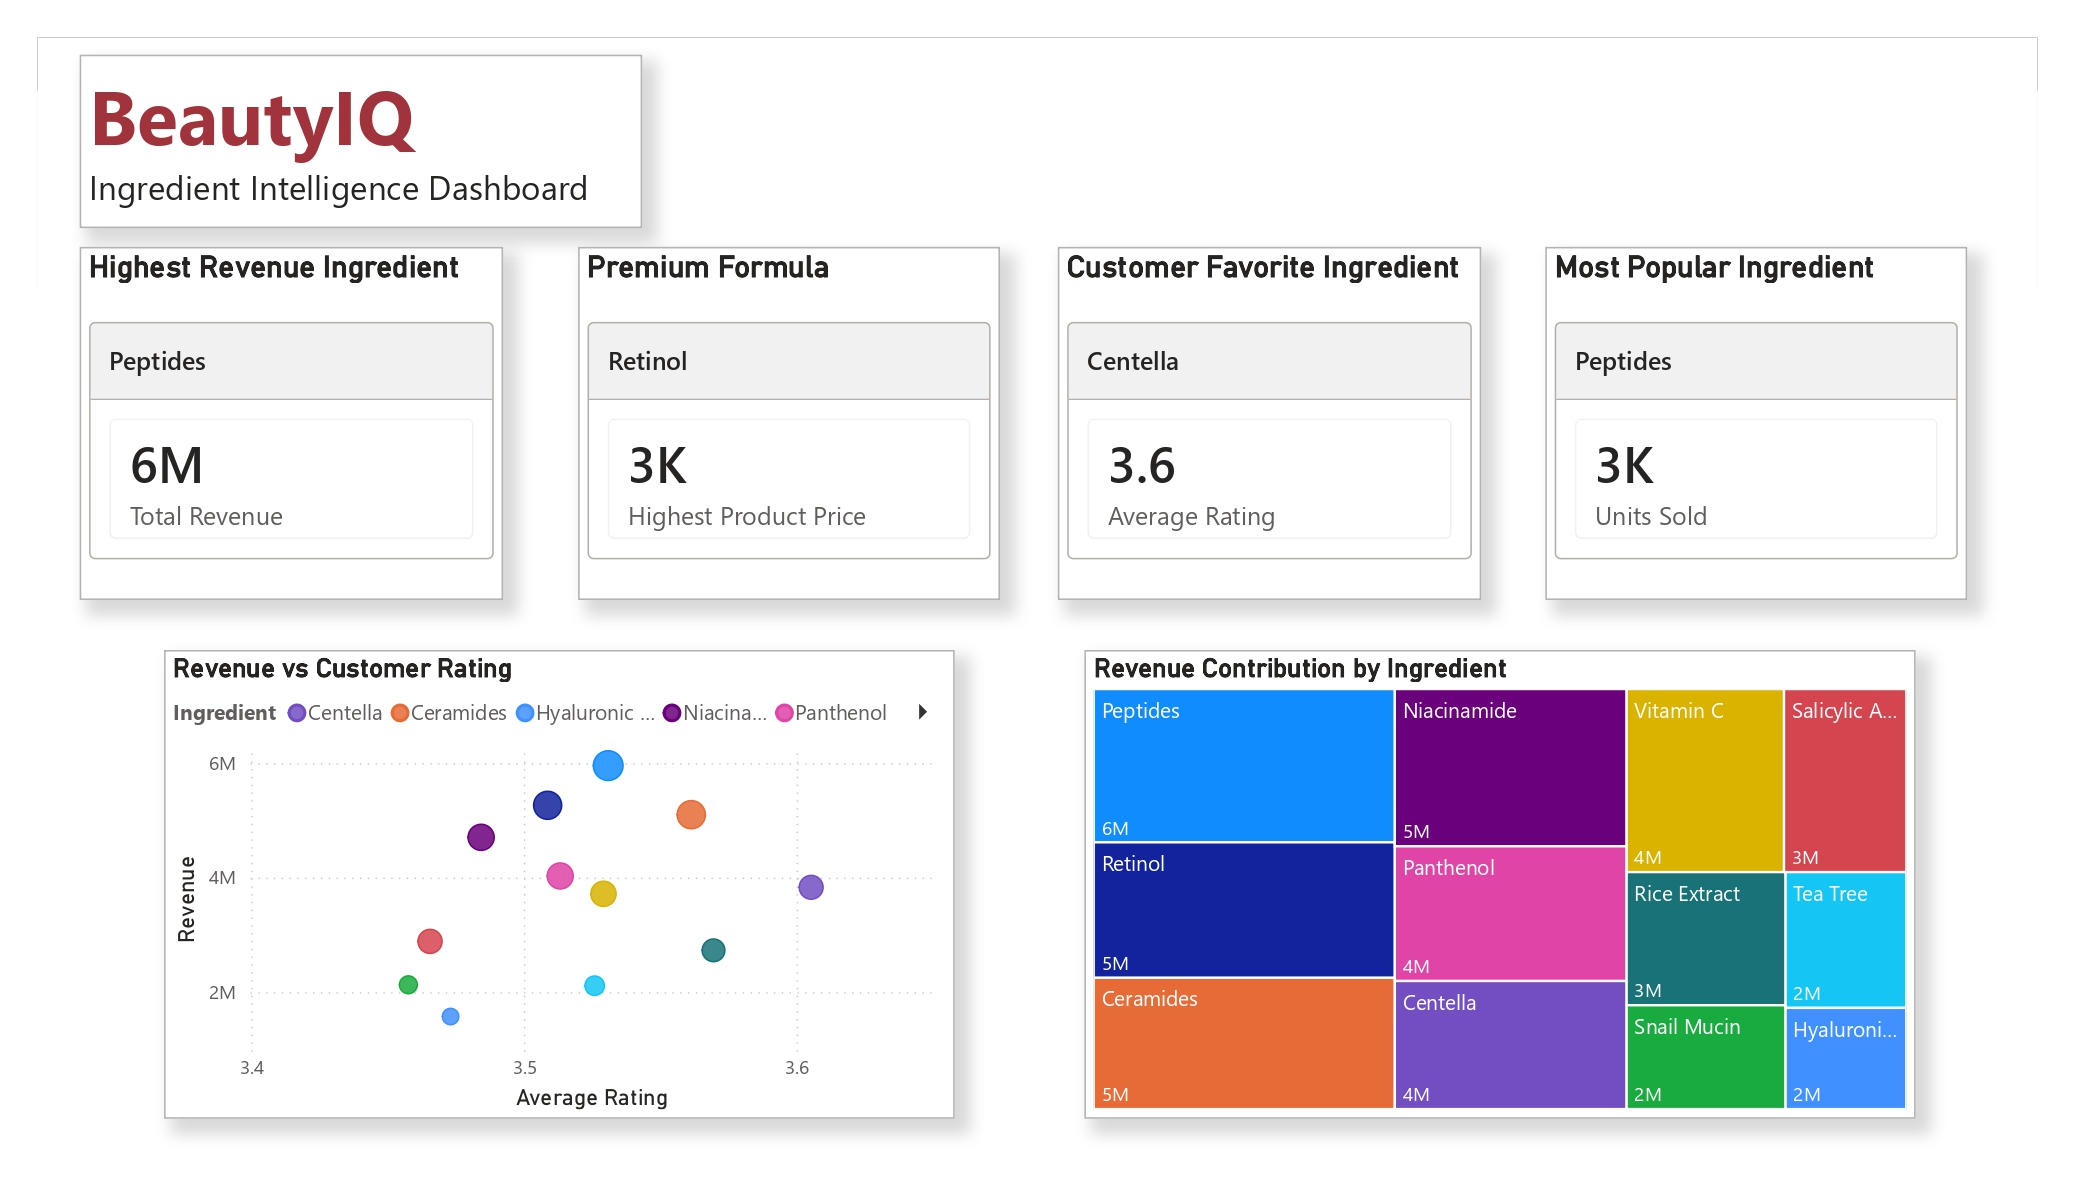

Layout of this report page (visuals, bound fields, positions):
{"tool":"powerbi","page":{"name":"Ingredient Intelligence ","canvas":[1280,720],"ordinal":3},"visuals":[{"type":"textbox","box":[27.4,11,359.5,111.1],"z":0},{"type":"cardVisual","title":"Highest Revenue Ingredient","fields":{"Rows":["DimIngredient.Ingredient"],"Data":["Sum(FactSales.Revenue)"]},"box":[27.4,134.5,270.3,225],"z":1000},{"type":"cardVisual","title":"Premium Formula","fields":{"Rows":["DimIngredient.Ingredient"],"Data":["DimBrand.Highest Product Price"]},"box":[345.8,134.5,270.3,225],"z":2000},{"type":"cardVisual","title":"Customer Favorite Ingredient","fields":{"Rows":["DimIngredient.Ingredient"],"Data":["DimBrand.Average Rating"]},"box":[653.2,134.5,270.3,225],"z":3000},{"type":"cardVisual","title":"Most Popular Ingredient","fields":{"Rows":["DimIngredient.Ingredient"],"Data":["DimBrand.Total Units Sold"]},"box":[964.7,134.5,270.3,225],"z":4000},{"type":"scatterChart","title":"Revenue vs Customer Rating","fields":{"X":["DimBrand.Average Rating"],"Y":["Sum(FactSales.Revenue)"],"Series":["DimIngredient.Ingredient"],"Size":["DimBrand.Units Sold"]},"box":[81,392.5,506.3,299.1],"z":5000},{"type":"treemap","title":"Revenue Contribution by Ingredient","fields":{"Group":["DimIngredient.Ingredient"],"Values":["Sum(FactSales.Revenue)"]},"box":[669.6,392.5,532.4,299.1],"z":6000}]}

Visuals, with their boxes on the page's 1280x720 design canvas (x1, y1, x2, y2). These are canvas units, not pixel positions in the 2075x1200 screenshot, which may show the page scaled, cropped or inside an application window:
textbox: (27,11,387,122)
"Highest Revenue Ingredient" cardVisual: (27,134,298,360)
"Premium Formula" cardVisual: (346,134,616,360)
"Customer Favorite Ingredient" cardVisual: (653,134,924,360)
"Most Popular Ingredient" cardVisual: (965,134,1235,360)
"Revenue vs Customer Rating" scatterChart: (81,392,587,692)
"Revenue Contribution by Ingredient" treemap: (670,392,1202,692)
